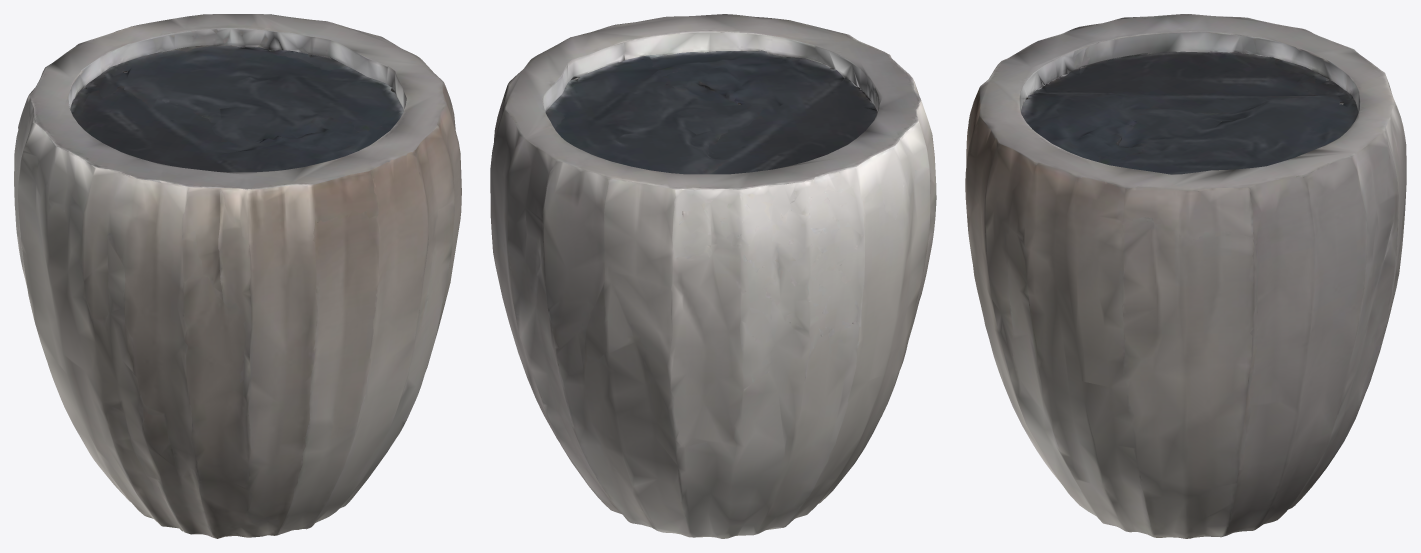
The model's file is RdWtoFdGvU8EJM8_motAS.glb.
3 views of the same model, side by side, from view 1: azimuth 30°, elevation 25°; view 2: azimuth 150°, elevation 25°; view 3: azimuth 270°, elevation 25° (orthographic).
Visible parts, largest first — view 1: geometry_0; view 2: geometry_0; view 3: geometry_0.
Boxes of the visible parts, x1,y1,x2,y2 form: geometry_0: (14,14,461,538); geometry_0: (490,14,936,538); geometry_0: (965,14,1406,538).
Size of the model in its own units: 1 by 0.9737 by 0.9904.
Materials: 1 (1 with a texture image).
